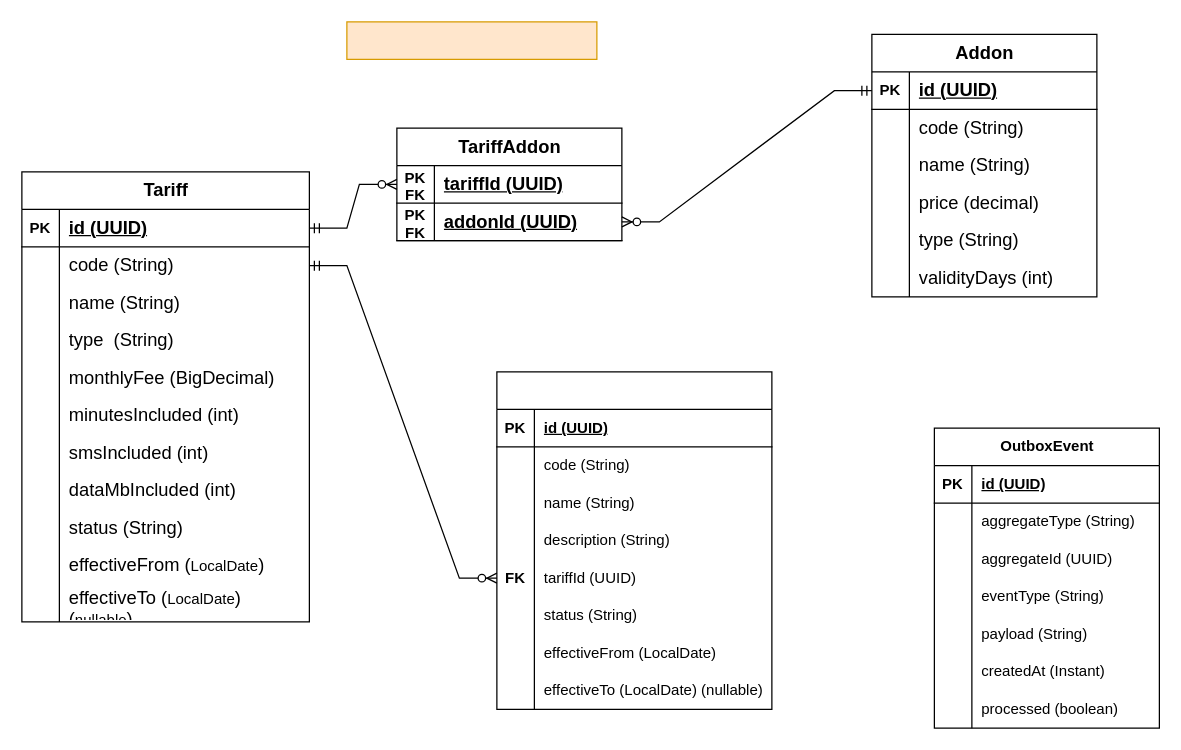
The diagram is 1181 pixels wide and 750 high, and some of its shapes have lost their labels. Each missing label, with the box of its shape:
PRODUCT-CATALOG-SERVICE: (346, 21, 597, 59)
ProductOffering: (496, 371, 772, 709)
